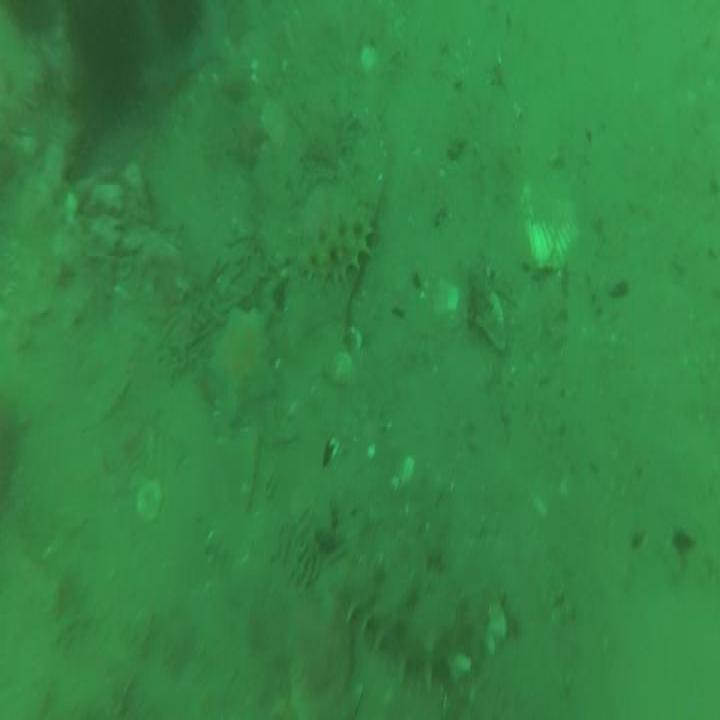echinus: (65, 4, 149, 102), (156, 0, 199, 39)
holothurian: (335, 570, 459, 690), (297, 206, 370, 284)
scallop: (518, 183, 578, 274)
starfish: (204, 306, 275, 423), (301, 94, 352, 167), (227, 105, 268, 165)
